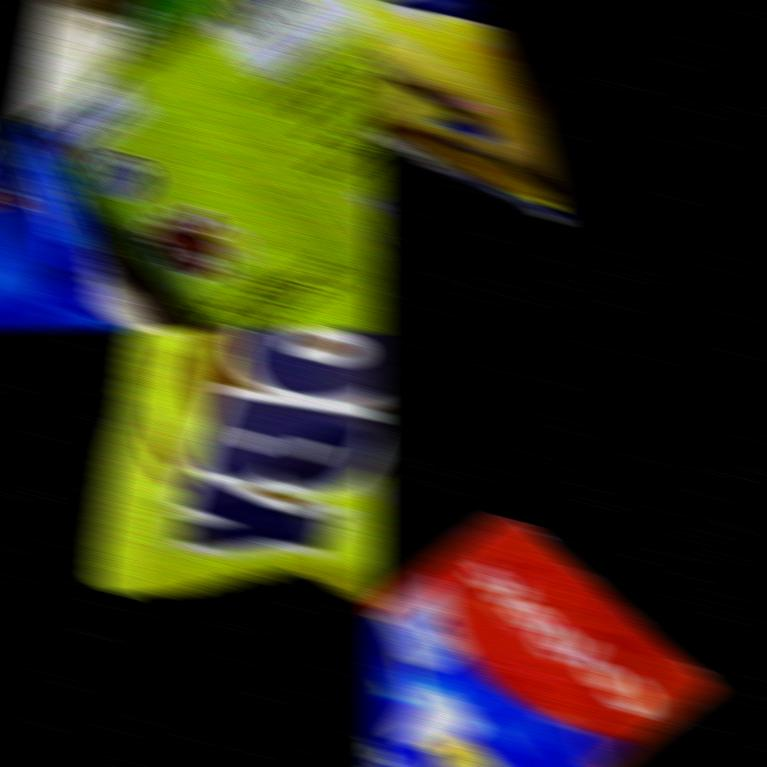Moby Caramel: (90, 328, 382, 611)
colgate: (368, 514, 718, 767)
piattos cheese: (0, 0, 381, 330), (368, 0, 567, 223)
